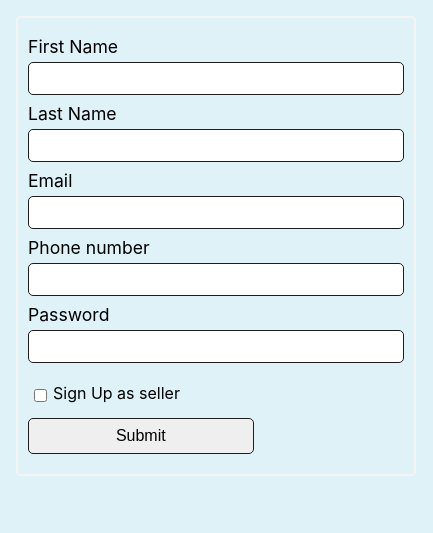
Test case: Check validations for phone_number
The image size is (433, 533).
Type "Ae" into the field with test id "phone_number".
click(216, 280); type("Ae")  # box [28,263,404,296]
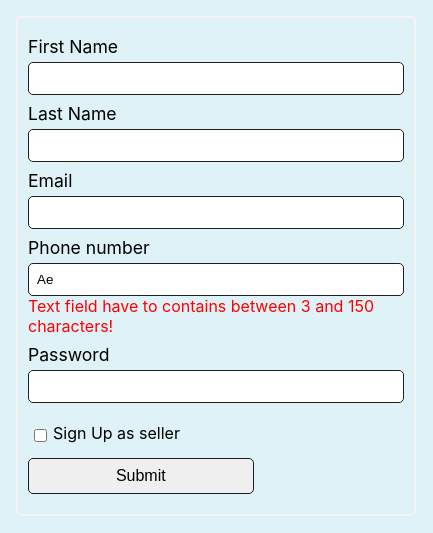
Check: the text "Text field have to contains between 3 and 150 characters!" is shown, box [28,296,404,336]
Check: the text with test id "valerror-phone_number" reads "Text field have to contains between 3 and 150 characters!", box [28,296,374,336]
Replace the text in the field with test id "phone_number" with "ewafewa waef ewaf ewafwe afweaf 34qr43 f43f43wf 4we3 fe4fe4 fef4q a4f 4ef 4ef 43e 4ef4 3efwe4afas efdsa fsdaf443rtt34f34fe4r fddfs fdsgdfsggfsd fsdgdfsgdfsg" at (216, 280), box [28,263,404,296]
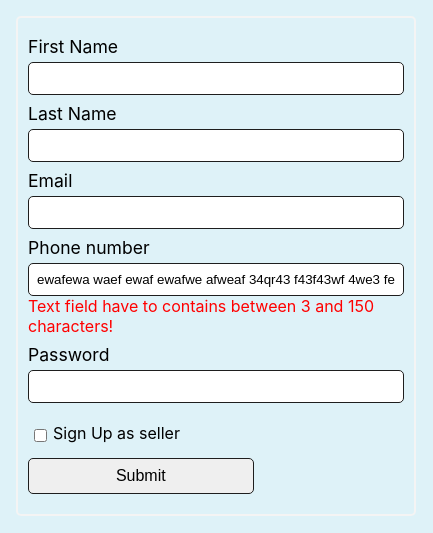
Check: the text "Text field have to contains between 3 and 150 characters!" is shown, box [28,296,404,336]
Check: the text with test id "valerror-phone_number" reads "Text field have to contains between 3 and 150 characters!", box [28,296,374,336]
Clear the field with test id "phone_number" at (216, 280), box [28,263,404,296]
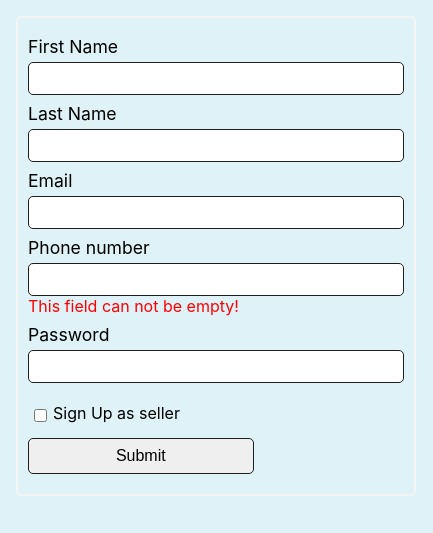
Check: the text with test id "valerror-phone_number" reads "This field can not be empty!", box [28,296,239,316]
